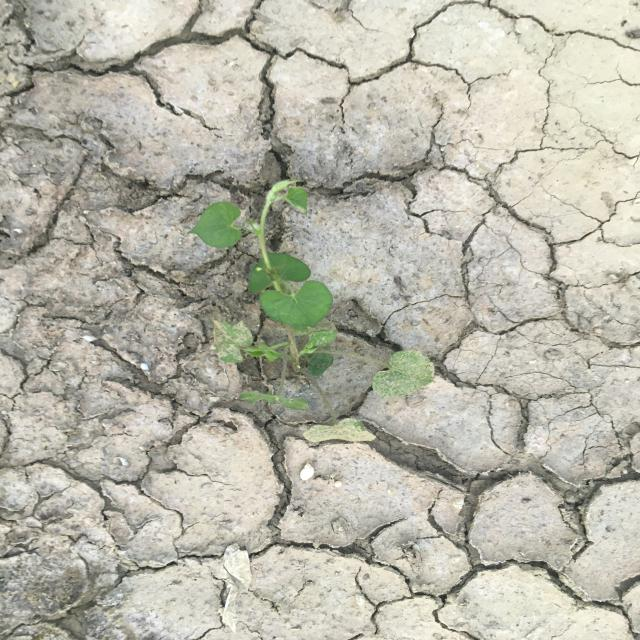MorningGlory: (184, 178, 438, 444)
